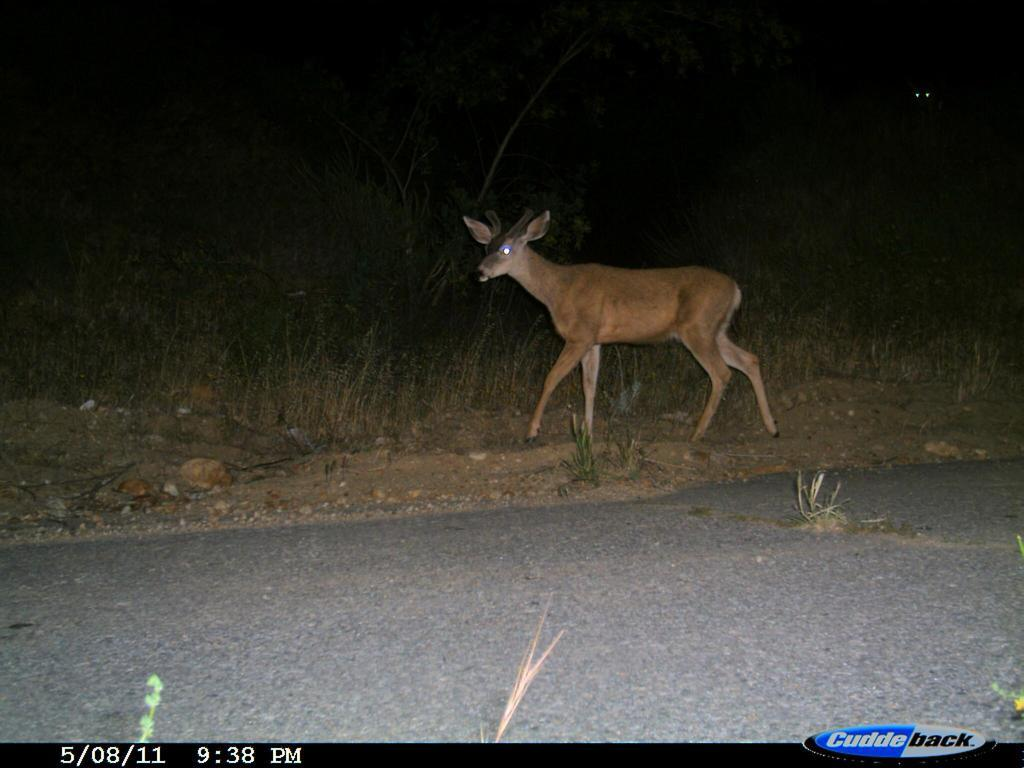deer: (450, 205, 788, 459)
